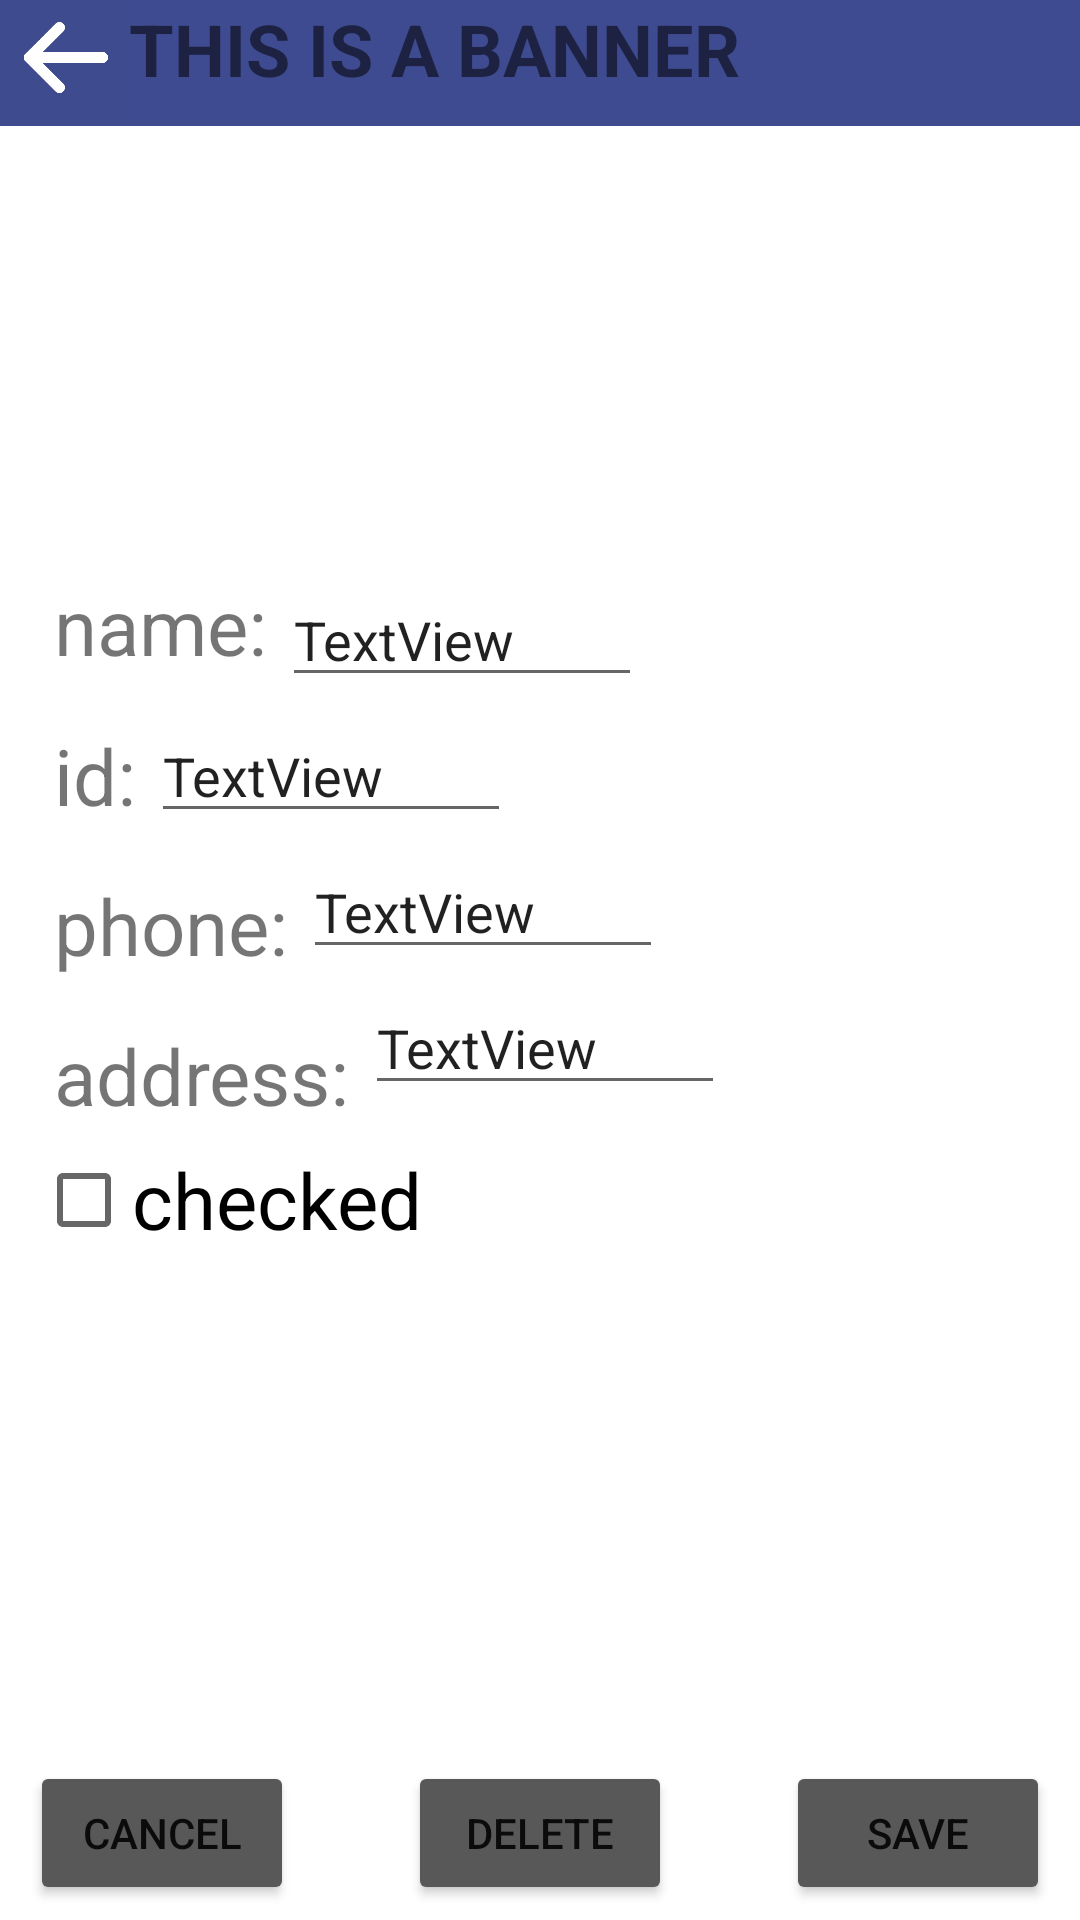

Point at icon controls on the screen. Image size 1080x1920, points as (x=x, y=y).
back: (x=66, y=57)
